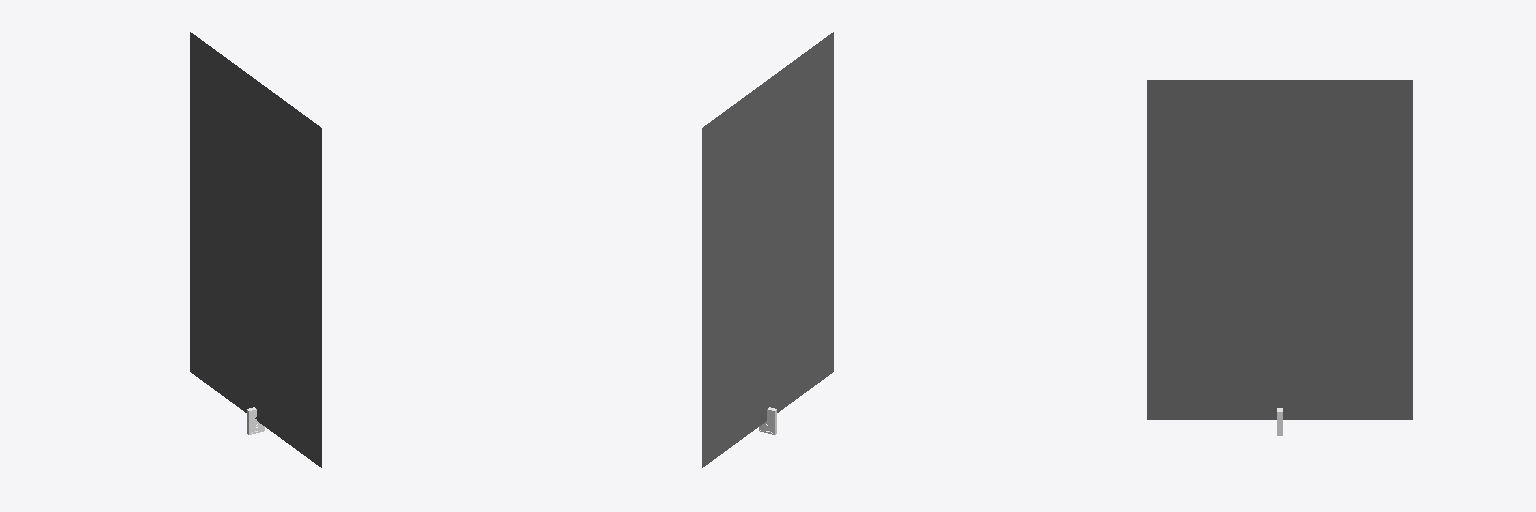
3 renders of one model, left to right at view 1: azimuth 30°, elevation 25°; view 2: azimuth 150°, elevation 25°; view 3: azimuth 270°, elevation 25°, orthographic.
Parts seen in each view (by area): view 1: Mesh7 Model; view 2: Mesh7 Model; view 3: Mesh7 Model.
Boxes of the visible parts, box(x1,y1,x2,y2) form: Mesh7 Model: box(190, 32, 321, 467); Mesh7 Model: box(702, 32, 833, 467); Mesh7 Model: box(1147, 80, 1412, 419).
Bounding box in the file's own units: 0.707 × 14.64 × 10.